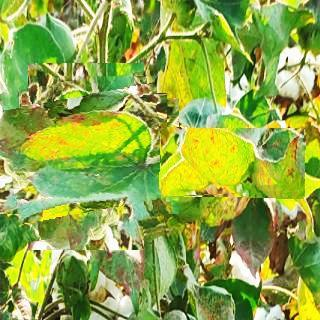blight: (5, 76, 167, 237), (161, 128, 305, 198)
